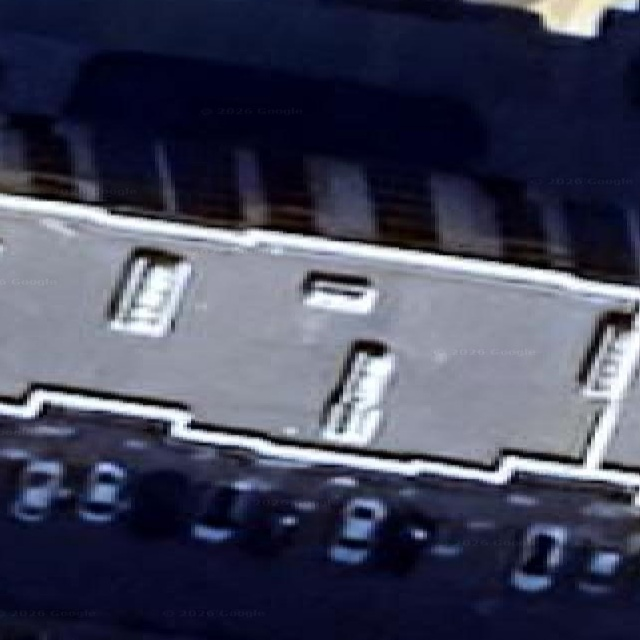car: (9, 460, 62, 522)
